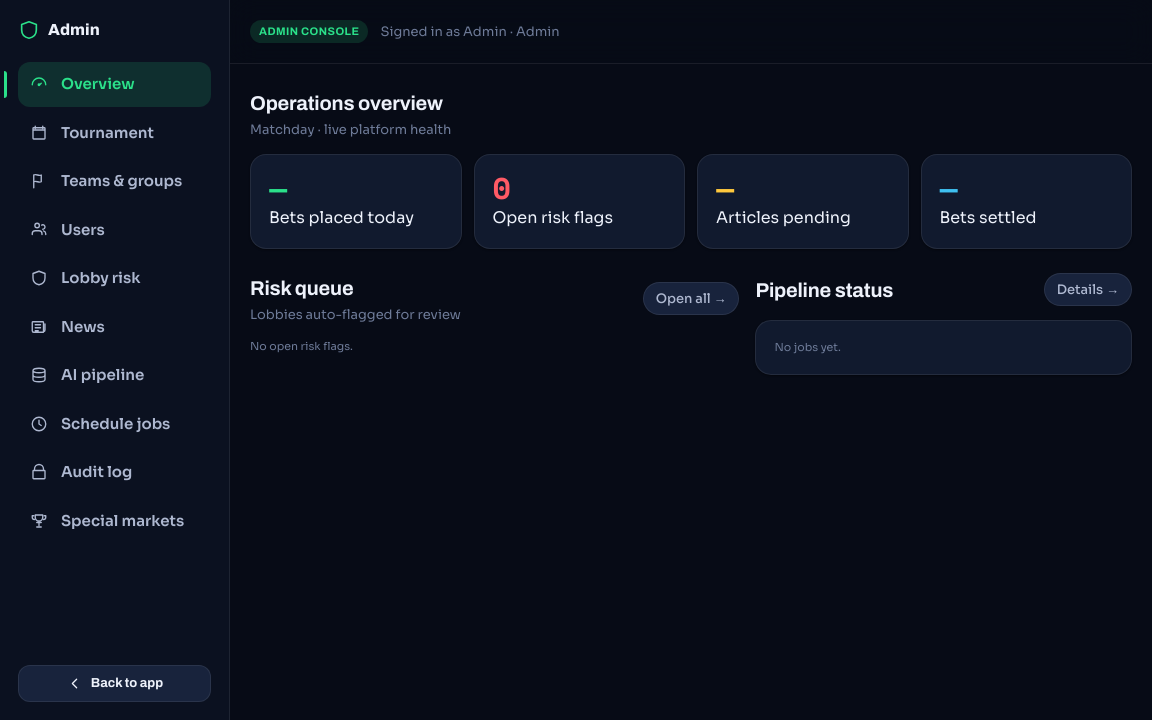
Scenario: Admin › clicking Lobby risk tab shows Lobby risk queue heading
Click the button "Lobby risk" at (114,278), box left=18, top=256, right=211, bottom=300
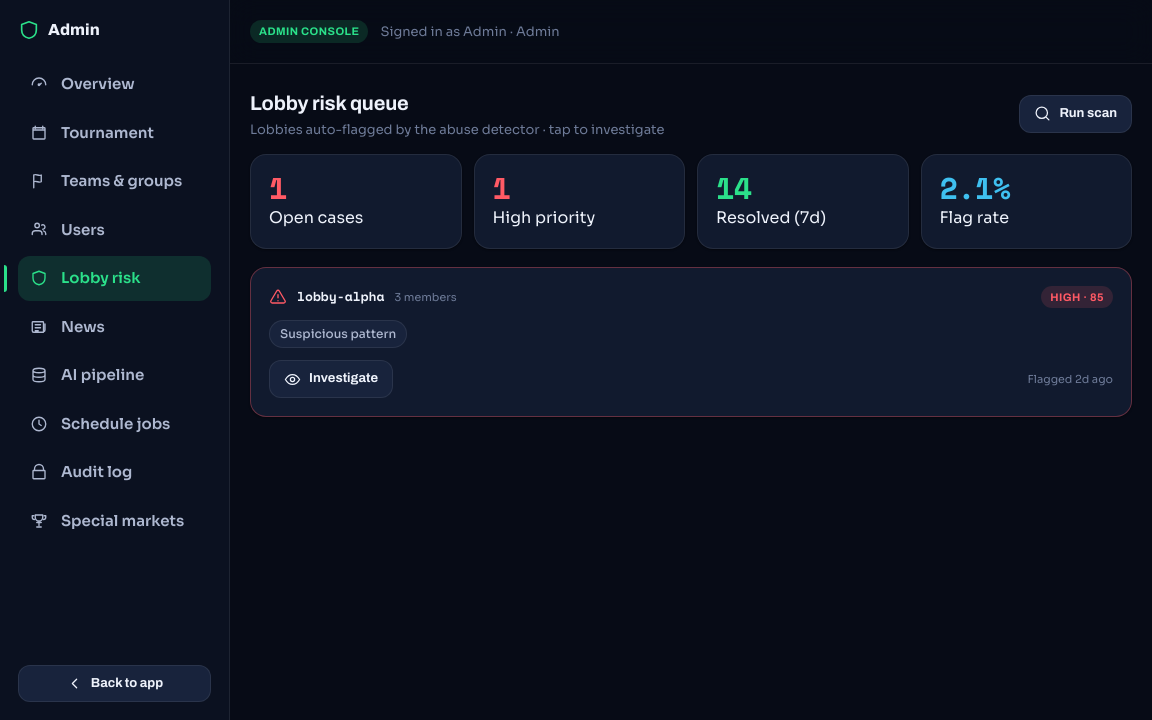
Now the text "Lobby risk queue" is shown, box left=250, top=92, right=408, bottom=114
